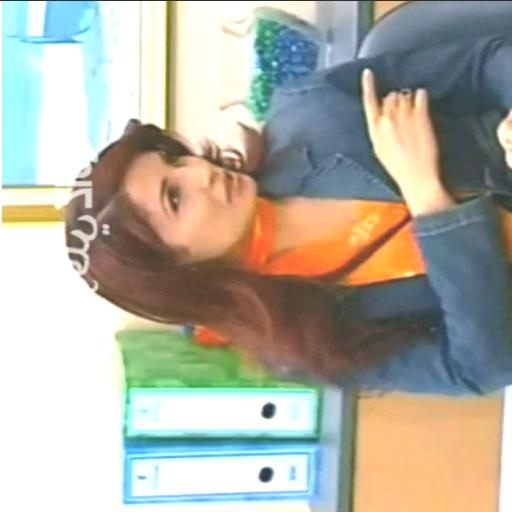Dalanda: (125, 151, 257, 262)
